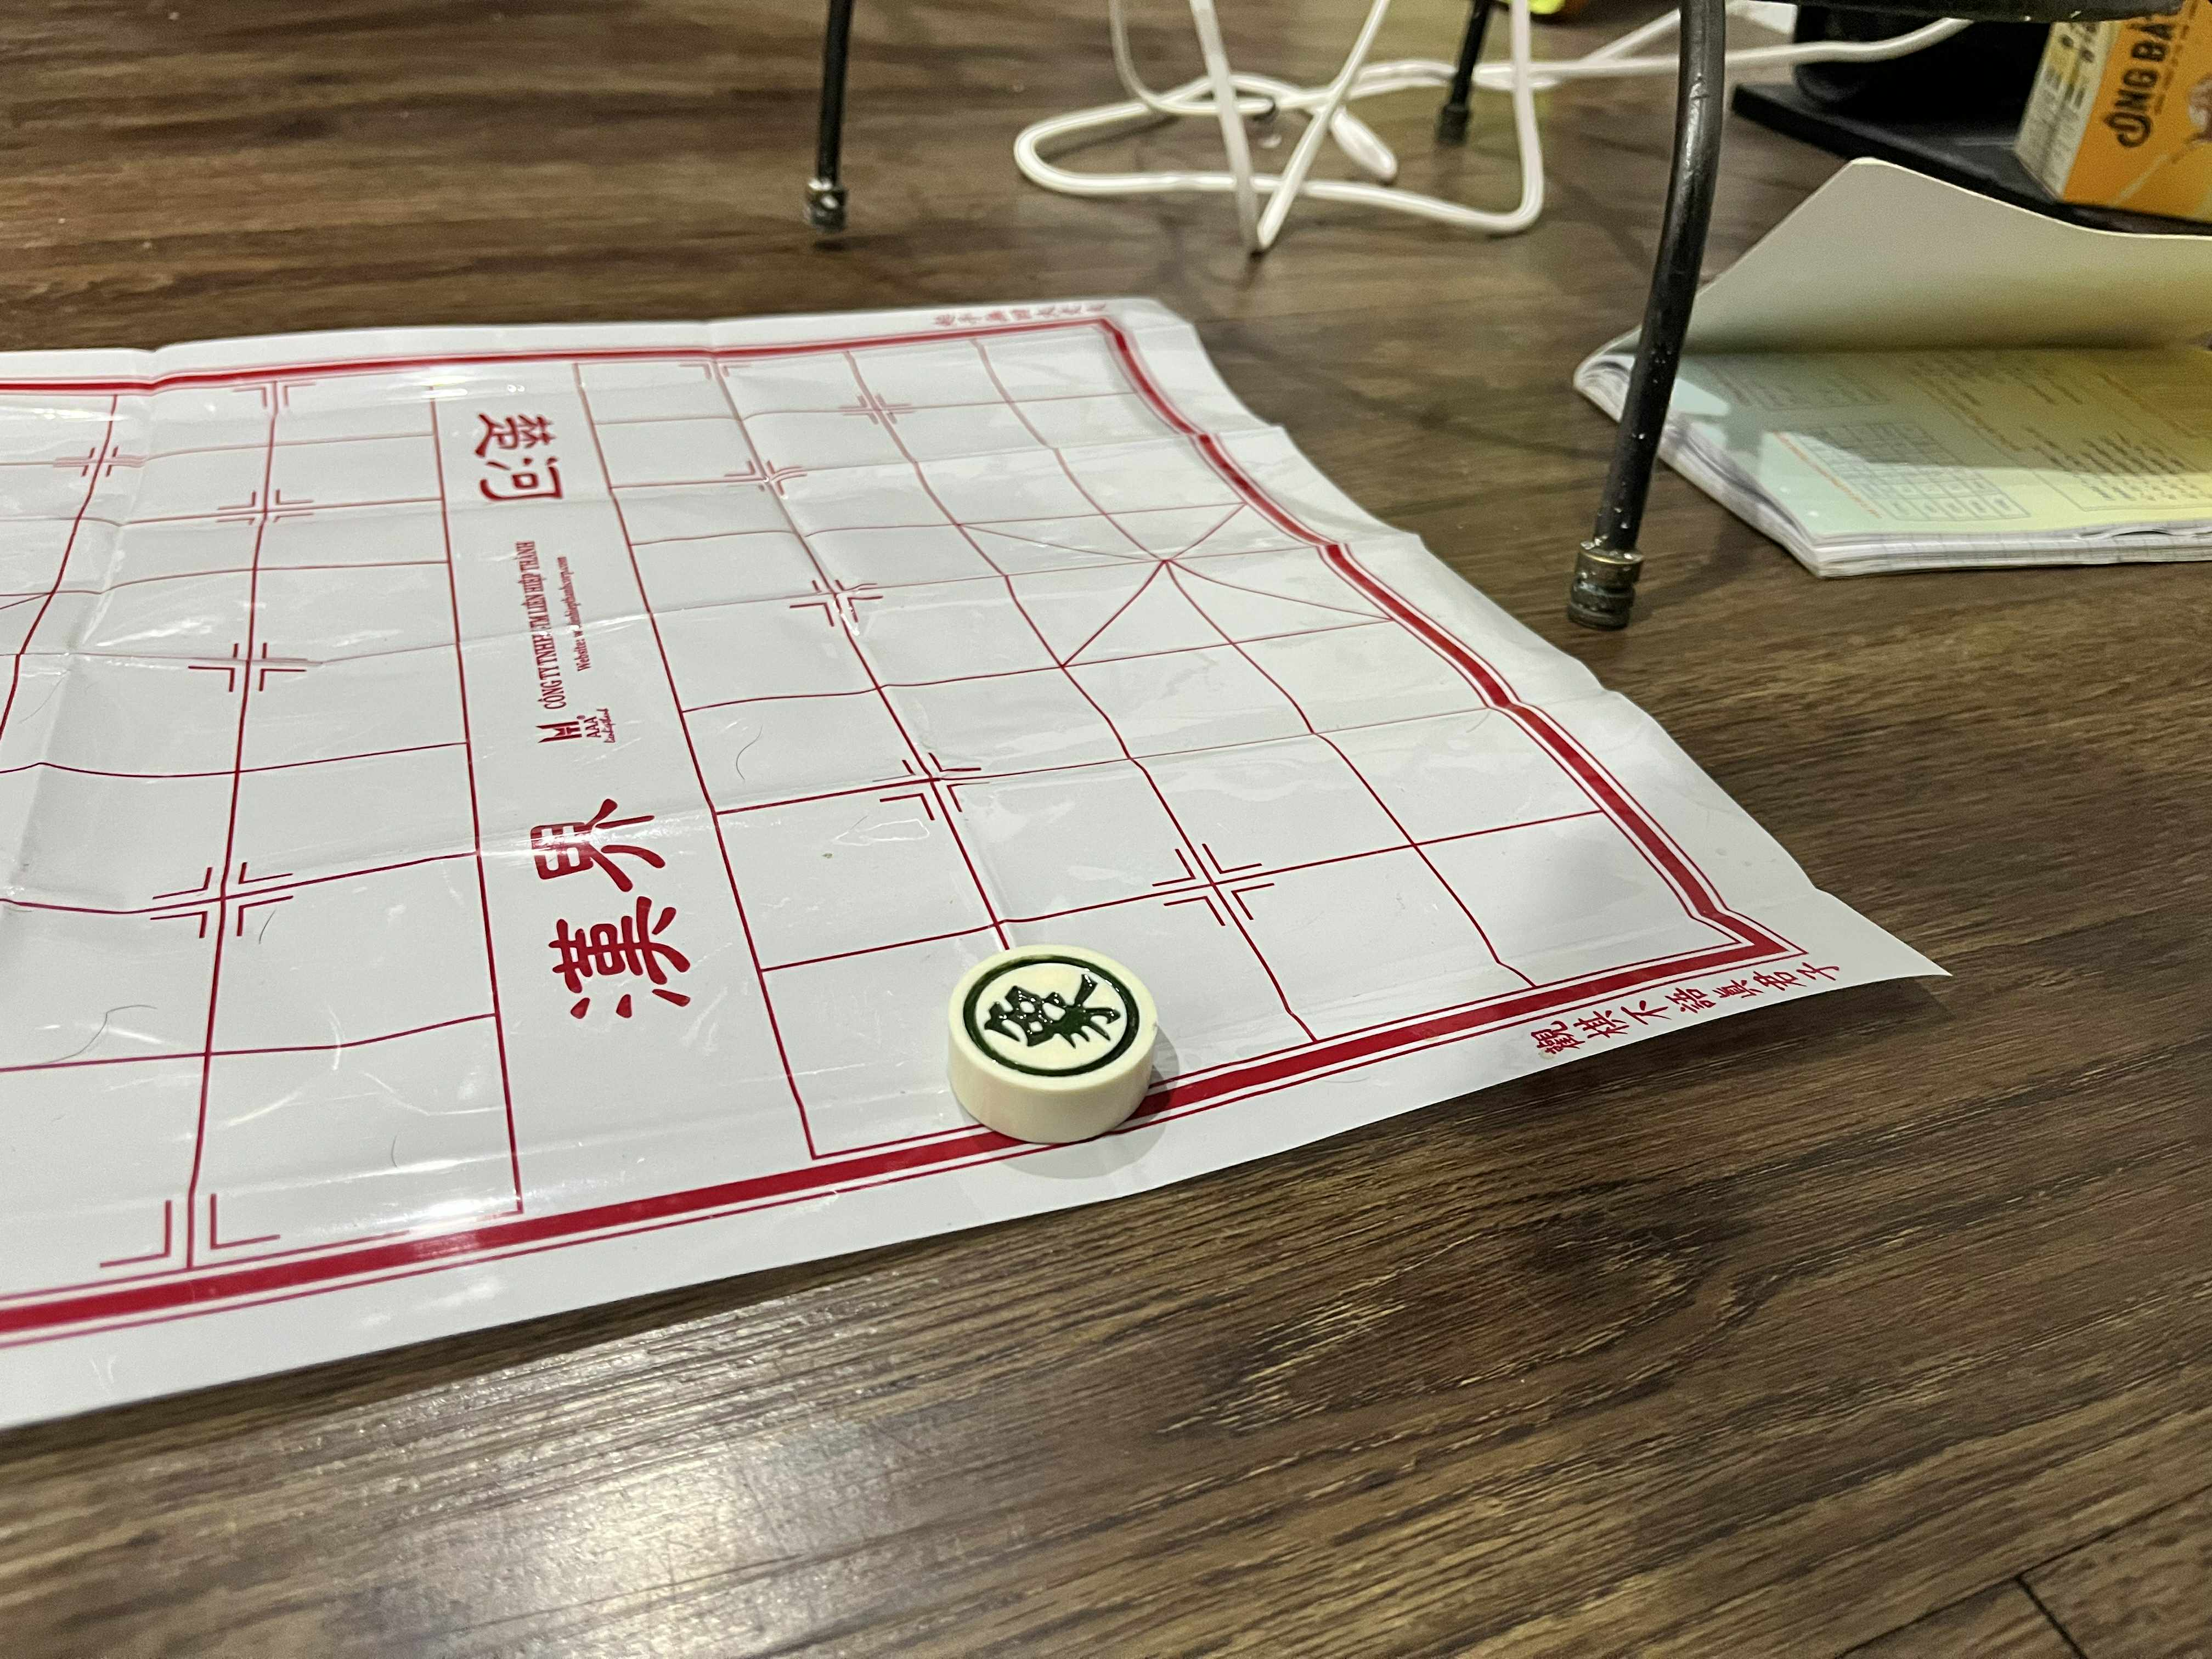black-elephant: (946, 939, 1158, 1091)
